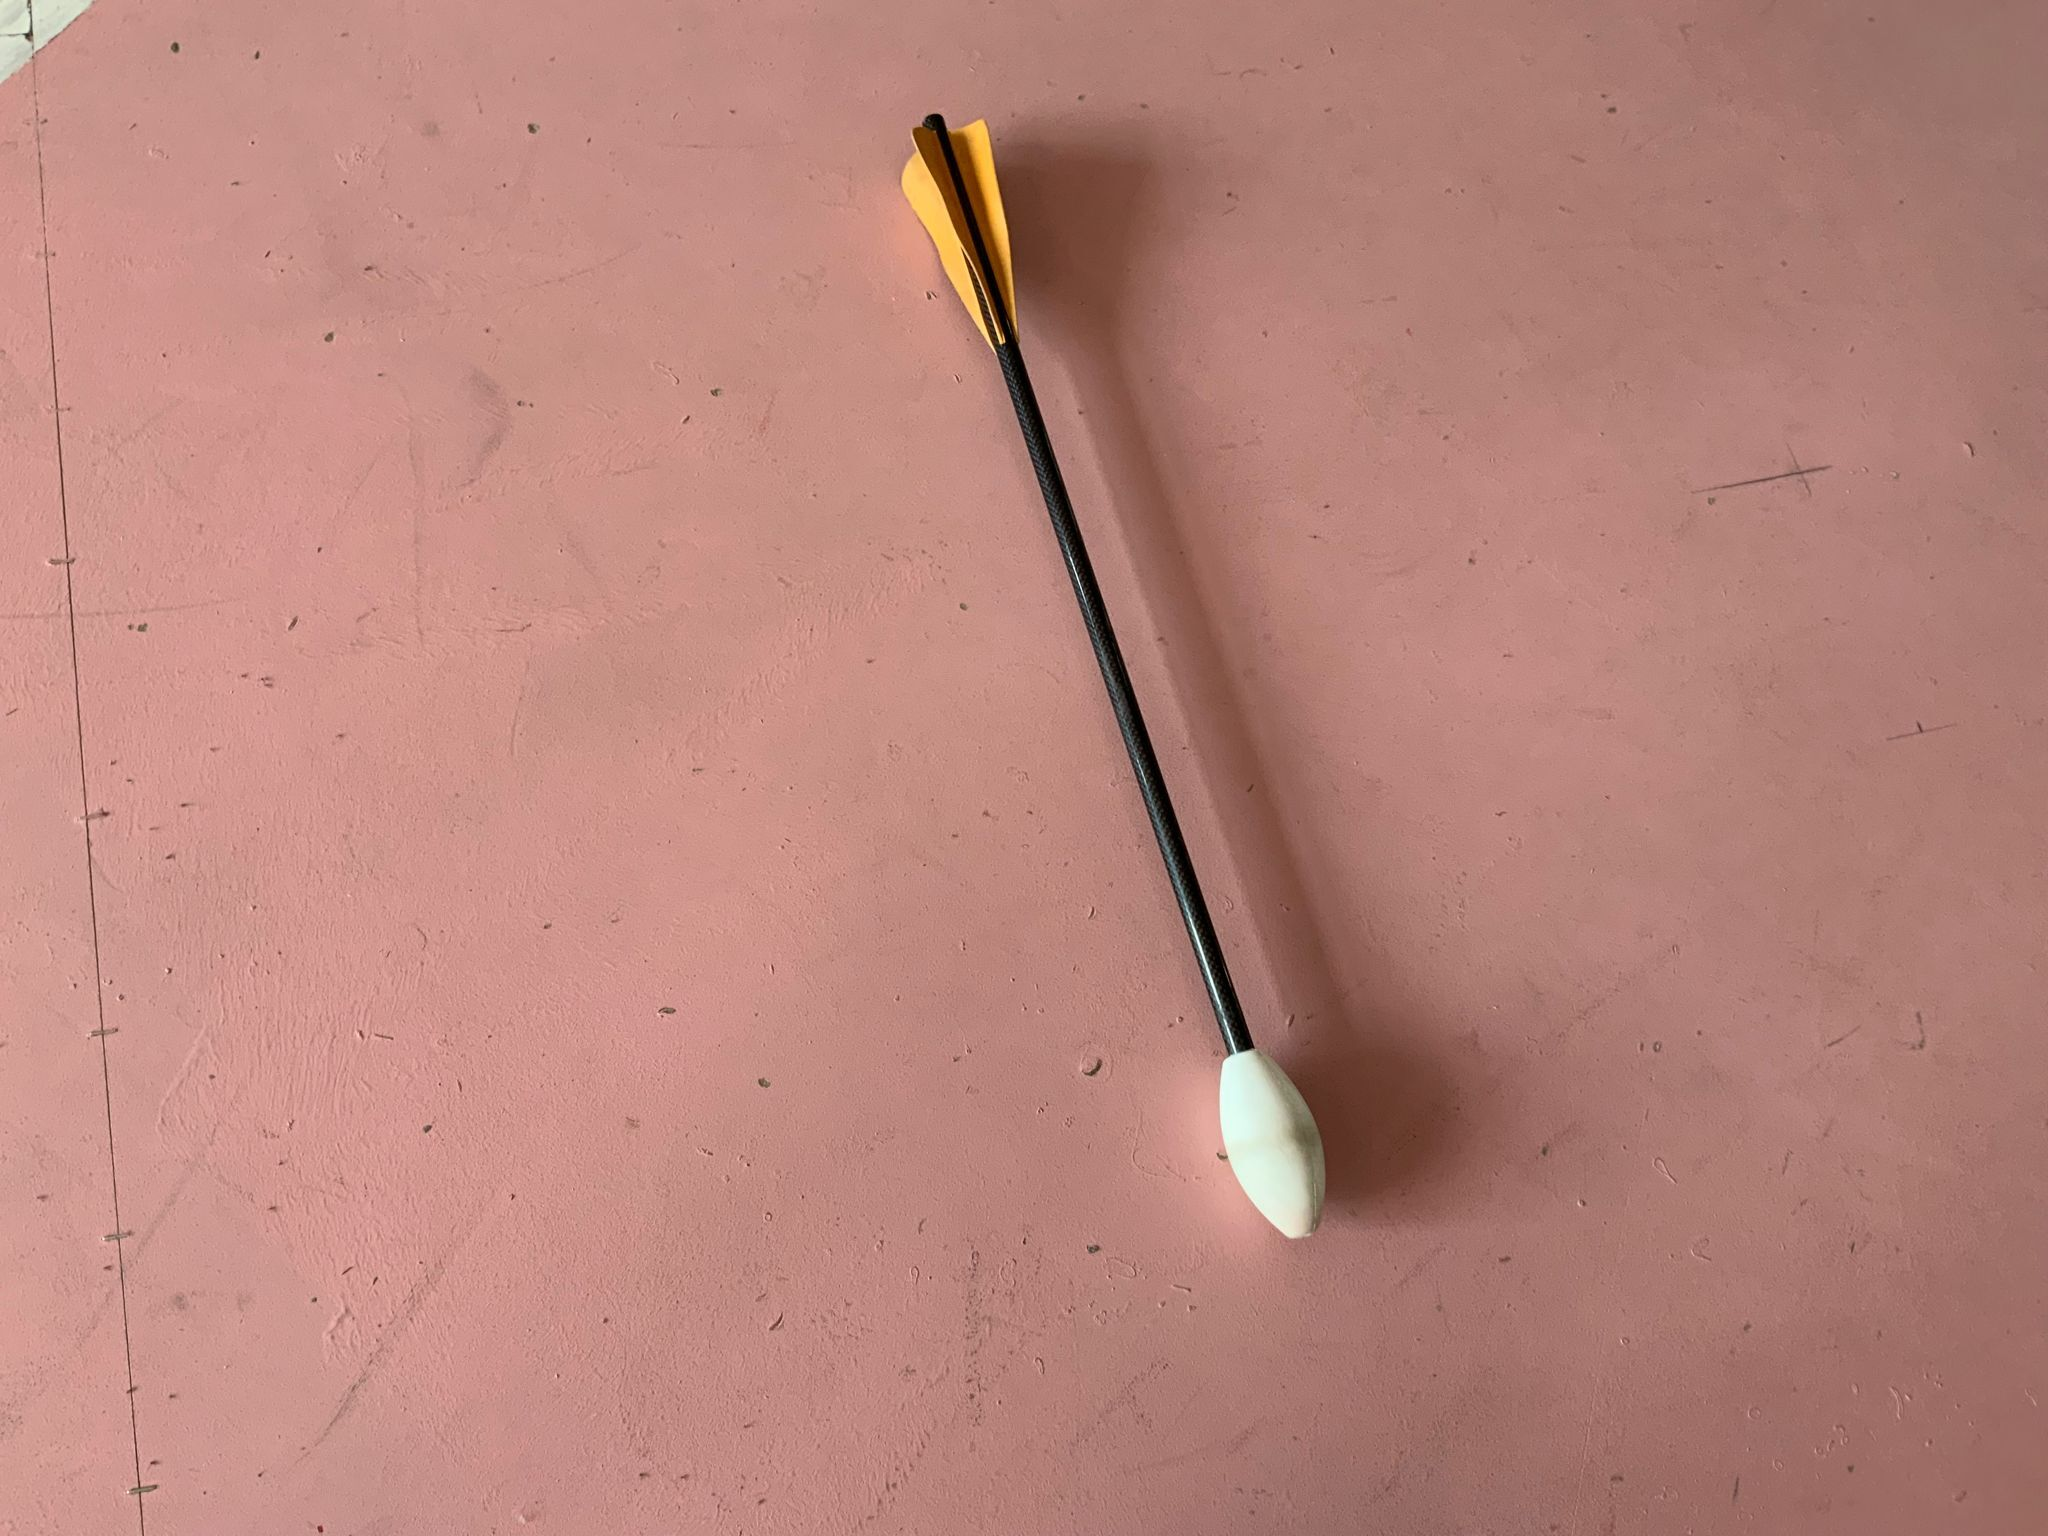arrow: (901, 111, 1330, 1242)
arrowFront: (1214, 1046, 1334, 1246)
